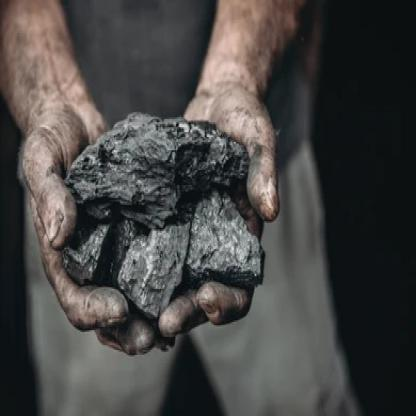Sedimentary_coal: (62, 101, 253, 221), (115, 206, 194, 314), (194, 190, 267, 285), (58, 204, 111, 286)
